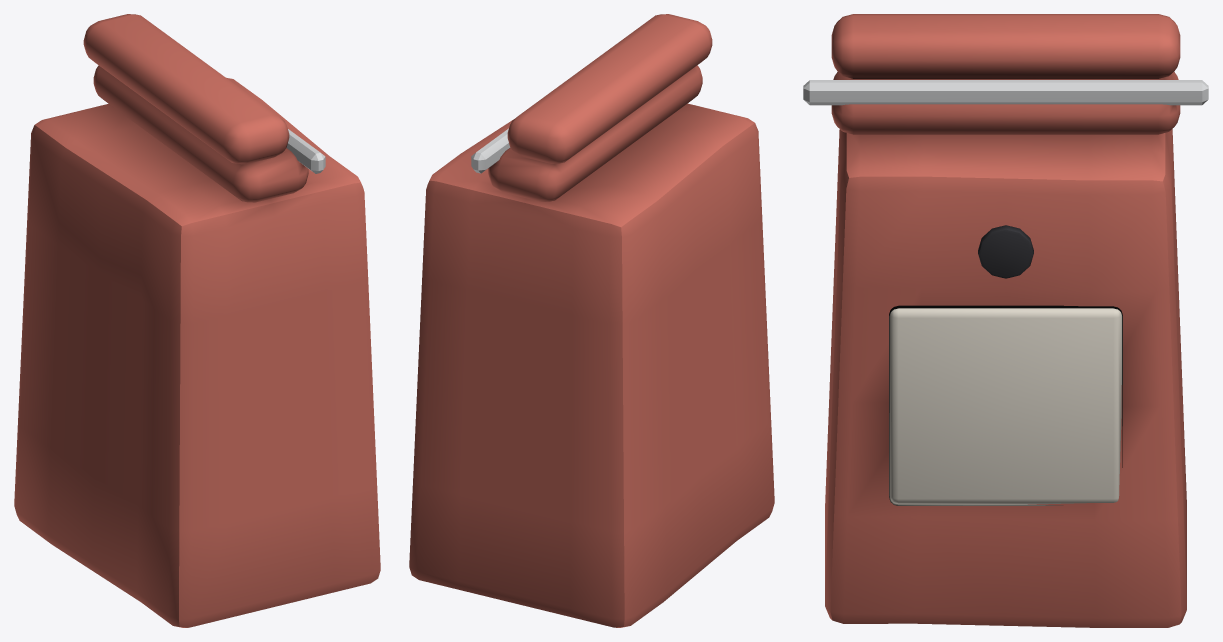
Rendered from nd_coffee_pack.glb.
3 views of the same model, side by side, from view 1: azimuth 30°, elevation 25°; view 2: azimuth 150°, elevation 25°; view 3: azimuth 270°, elevation 25° (orthographic). The views are drawn at different scales.
Visible parts, largest first — view 1: PART; view 2: PART; view 3: PART.
Part boxes in pixels (box(x1,y1,x2,y2)): PART: box(14, 14, 380, 627); PART: box(409, 14, 774, 627); PART: box(803, 14, 1208, 627).
Bounding box in the file's own units: 0.0935 × 0.192 × 0.13.
